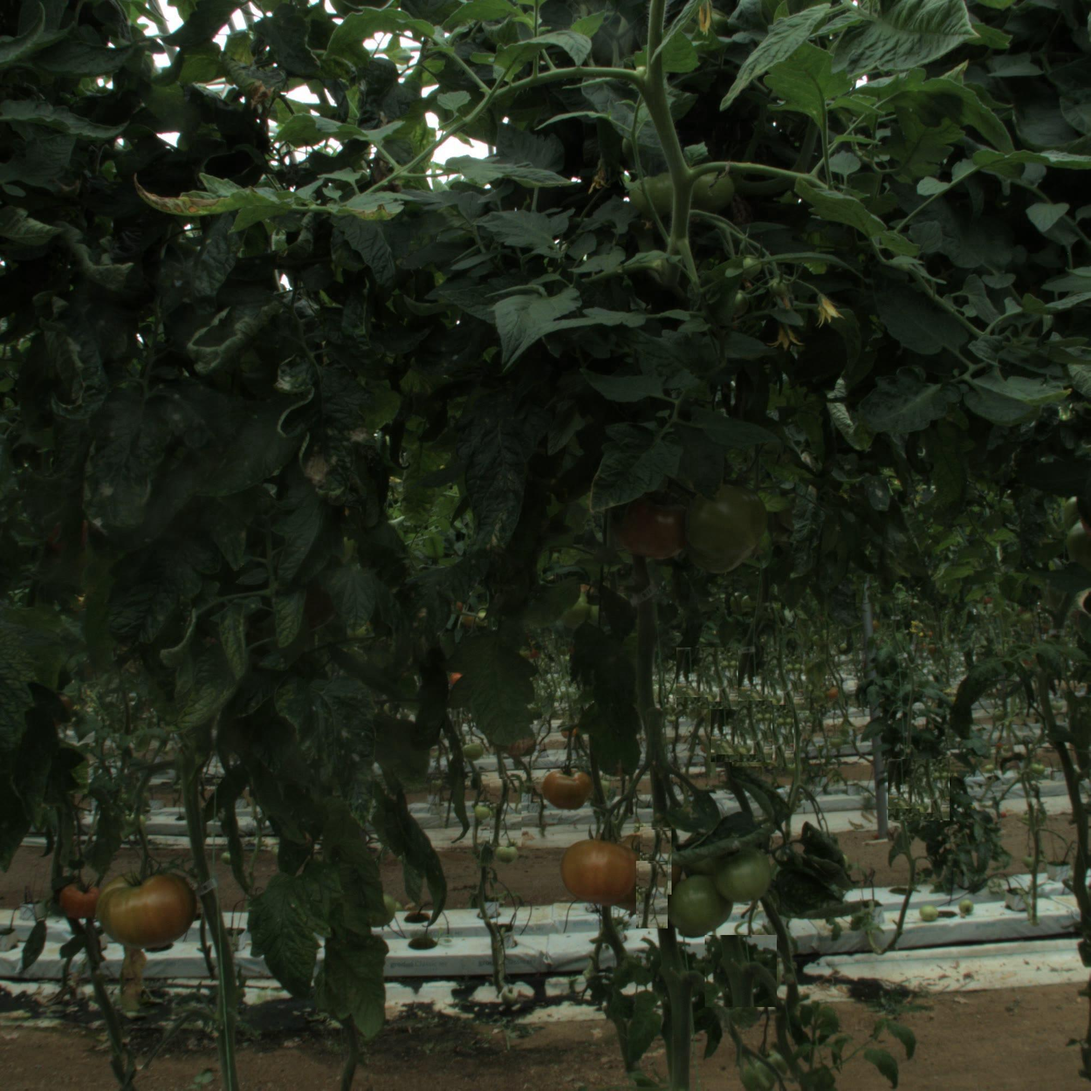['unripe', 'semi-ripe', 'fully-ripe']: (685, 481, 768, 564), (673, 877, 730, 934), (714, 845, 771, 902)
